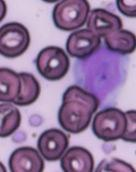M: (72, 45, 130, 102)
